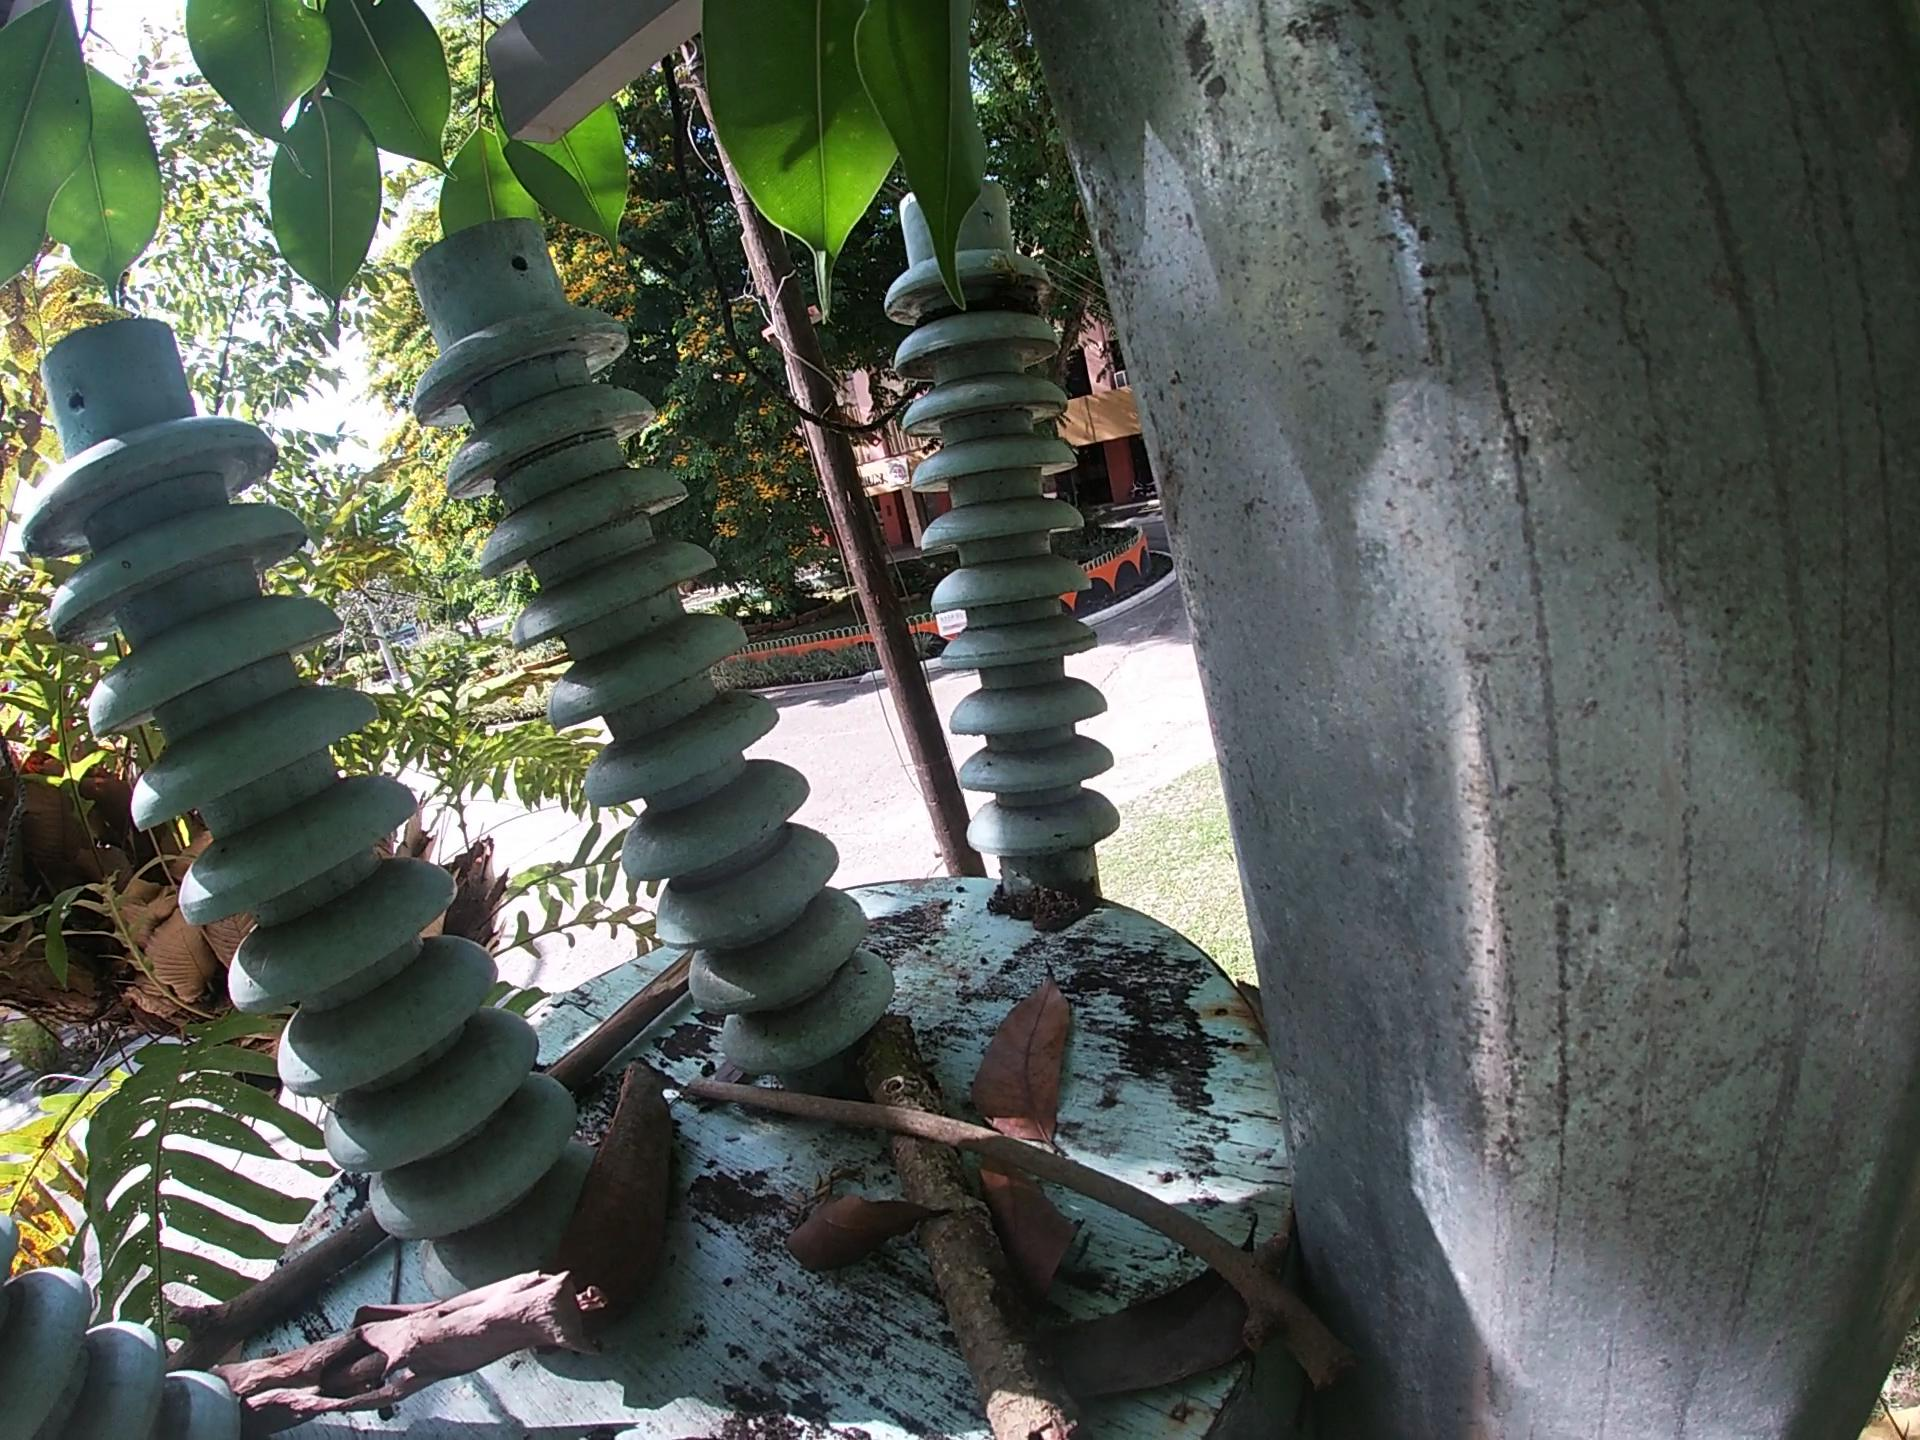leaf: (1037, 1210, 1271, 1411), (965, 962, 1085, 1153), (777, 1184, 951, 1286), (977, 1156, 1073, 1311)
mahogany fruit: (552, 1048, 688, 1348)
tree branch: (674, 1063, 1368, 1401), (847, 1007, 1092, 1438), (209, 1268, 615, 1435), (163, 1207, 395, 1370), (540, 945, 706, 1097)
